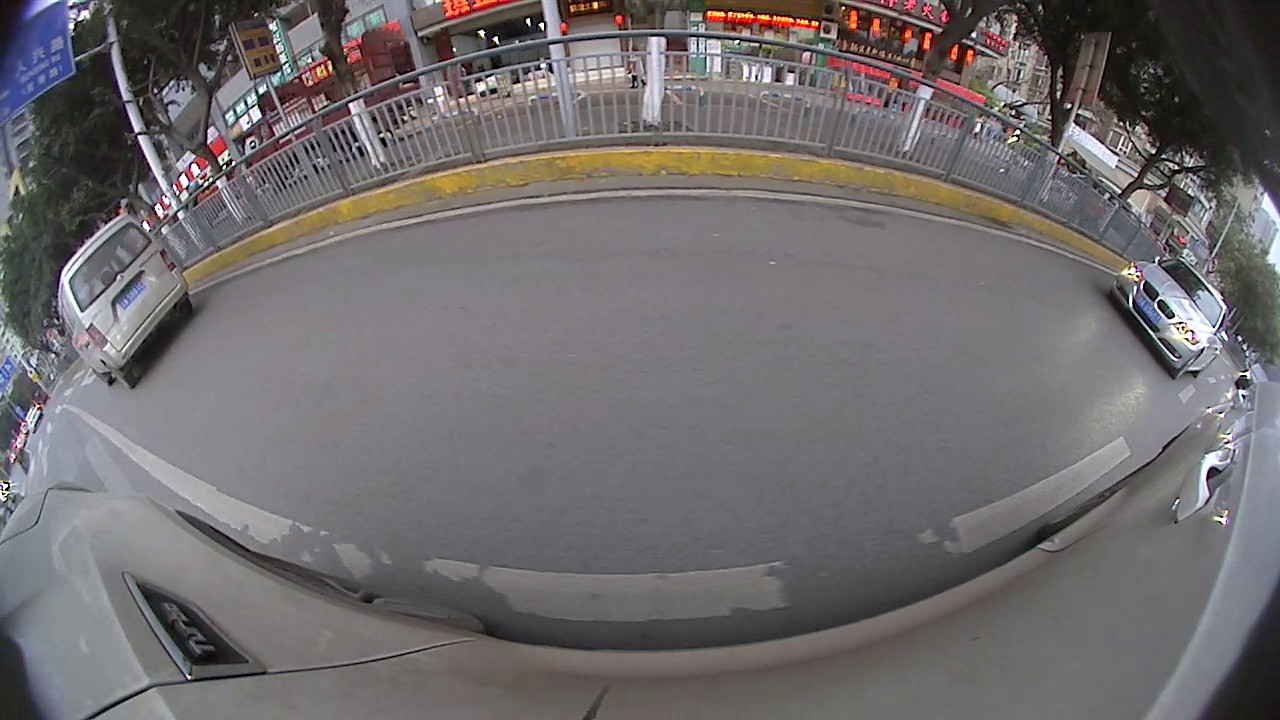car: (54, 210, 199, 394), (1105, 249, 1234, 383)
